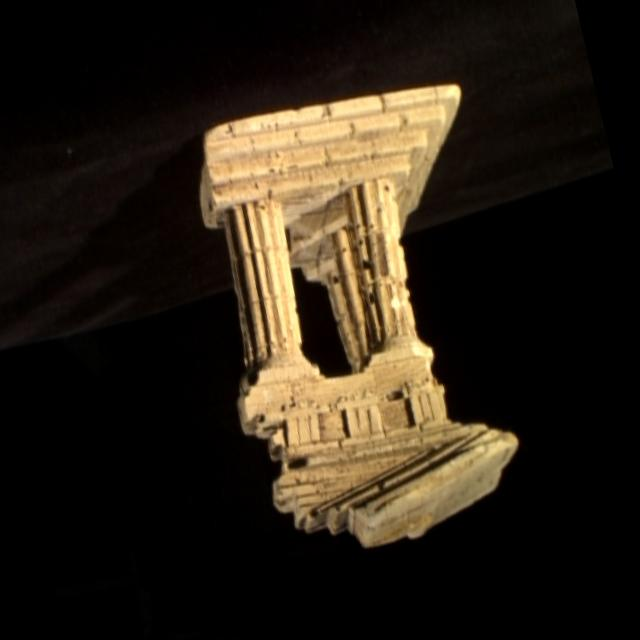Instance-Segmentation: (199, 83, 517, 545)
